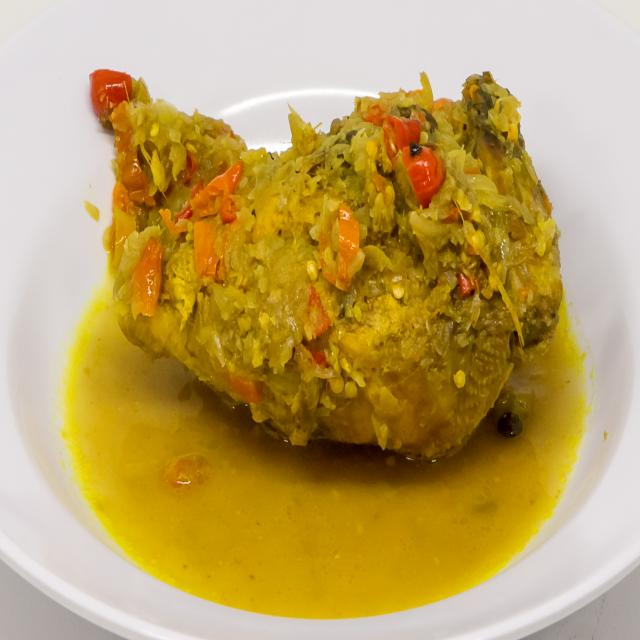Ayam-Betutu: (83, 41, 583, 514)
